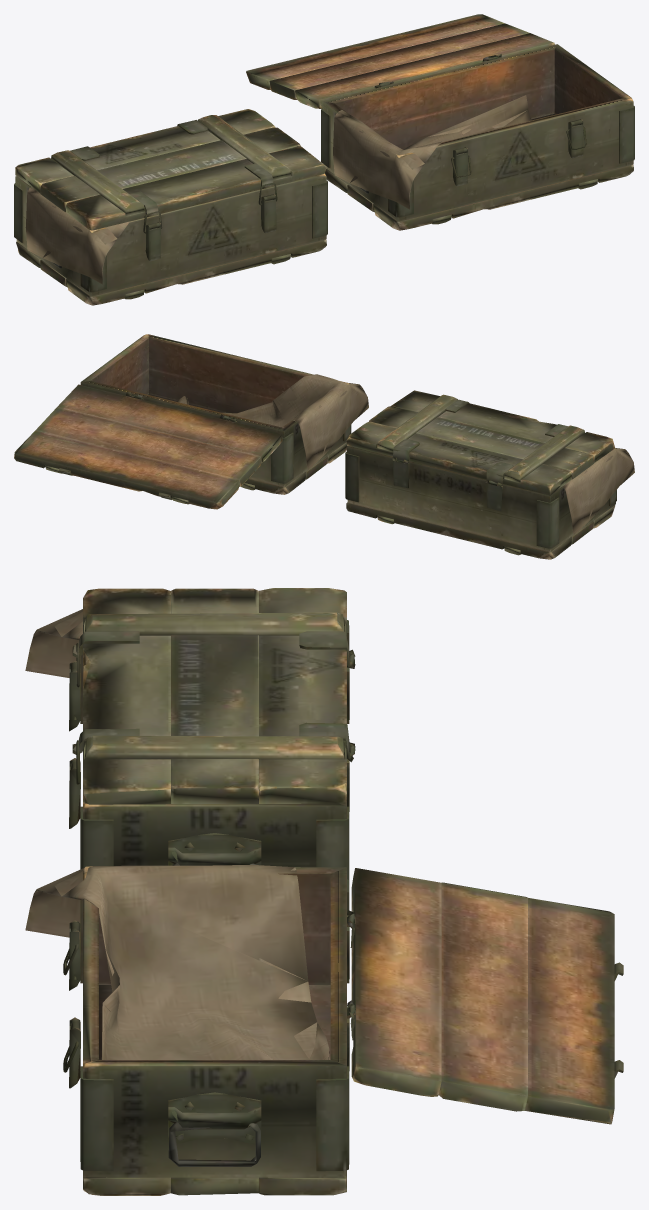
File: old_military_crate_512.glb
3 views of the same model, one above another, from view 1: azimuth 30°, elevation 25°; view 2: azimuth 150°, elevation 25°; view 3: azimuth 270°, elevation 25° (orthographic). The views are drawn at different scales.
Visible parts, largest first — view 1: old_military_crate_b, old_military_crate_lid_a, old_military_crate_a, old_military_crate_lid_b, old_military_crate_cloth_b, old_military_crate_cloth_a, old_military_crate_latch_a, old_military_crate_latch_b; view 2: old_military_crate_lid_b, old_military_crate_lid_a, old_military_crate_a, old_military_crate_b, old_military_crate_cloth_b, old_military_crate_cloth_a; view 3: old_military_crate_lid_a, old_military_crate_lid_b, old_military_crate_b, old_military_crate_cloth_b, old_military_crate_a, old_military_crate_cloth_a, old_military_crate_latch_b, old_military_crate_latch_a.
Boxes of the visible parts, x1,y1,x2,y2 form: old_military_crate_b: (321, 44, 634, 230); old_military_crate_lid_a: (15, 109, 326, 230); old_military_crate_a: (14, 173, 327, 305); old_military_crate_lid_b: (246, 14, 554, 108); old_military_crate_cloth_b: (333, 95, 532, 209); old_military_crate_cloth_a: (25, 187, 129, 284); old_military_crate_latch_a: (145, 194, 276, 261); old_military_crate_latch_b: (453, 119, 583, 186); old_military_crate_lid_b: (14, 384, 282, 509); old_military_crate_lid_a: (346, 390, 614, 495); old_military_crate_a: (345, 446, 616, 559); old_military_crate_b: (80, 334, 351, 494); old_military_crate_cloth_b: (175, 374, 368, 470); old_military_crate_cloth_a: (562, 448, 634, 535); old_military_crate_lid_a: (72, 588, 355, 804); old_military_crate_lid_b: (347, 868, 623, 1124); old_military_crate_b: (80, 866, 355, 1195); old_military_crate_cloth_b: (25, 864, 329, 1059); old_military_crate_a: (80, 620, 355, 884); old_military_crate_cloth_a: (25, 609, 82, 677); old_military_crate_latch_b: (69, 920, 80, 1088); old_military_crate_latch_a: (69, 660, 80, 828).
Size of the model in its own units: 1.81 by 0.2996 by 0.9744.
1 material, 1 textured.
